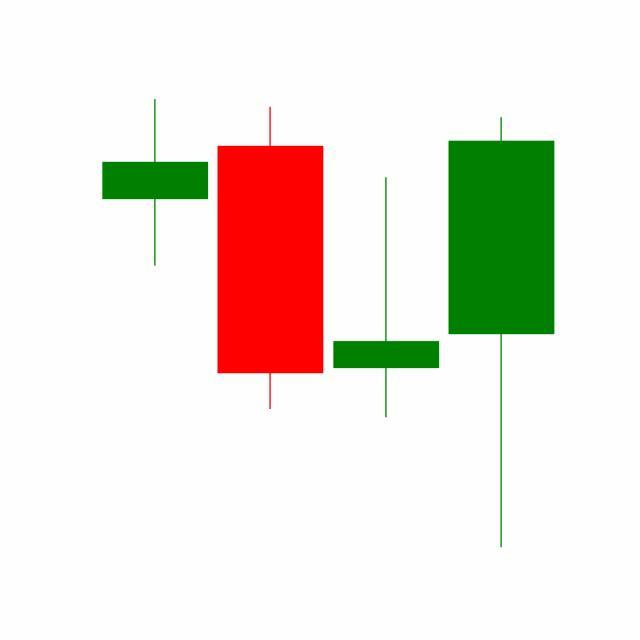Three Inside Up-Down: (211, 102, 555, 548)
